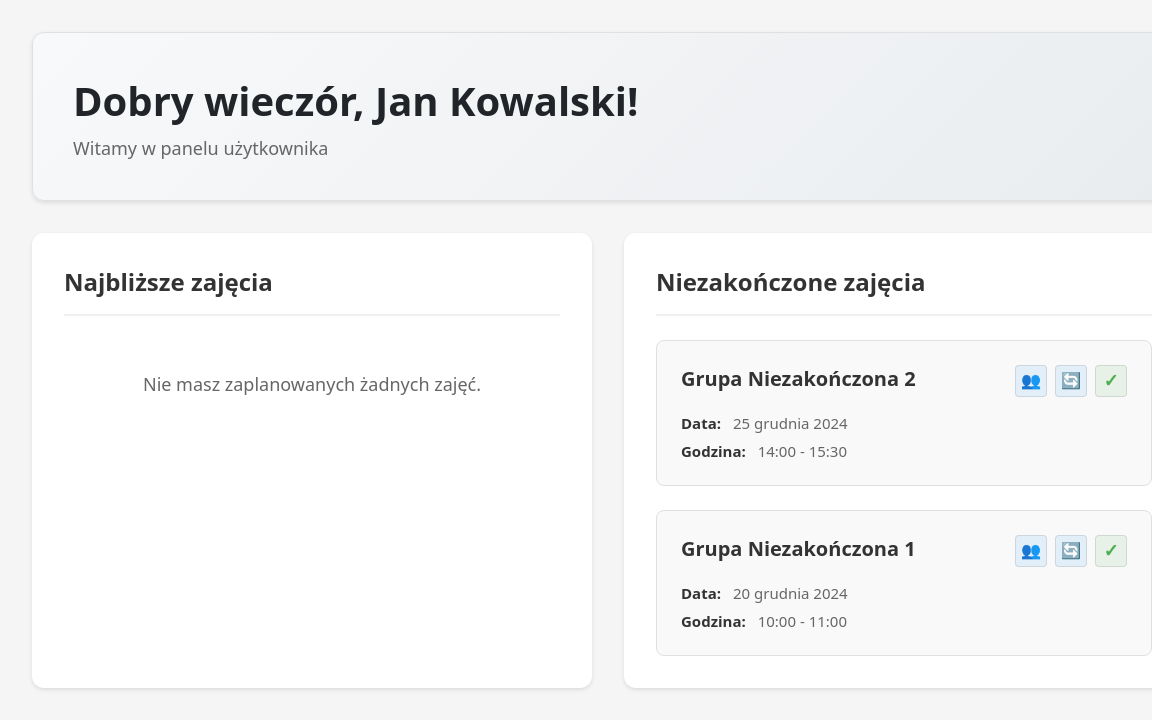
Test: DashboardPage › Instructor unfinished classes section › should open substitution modal when substitution button is clicked
Click the button titled "Dodaj zastępstwo" next to "Grupa Niezakończona 2": (1071, 381) [1055,365,1087,397]
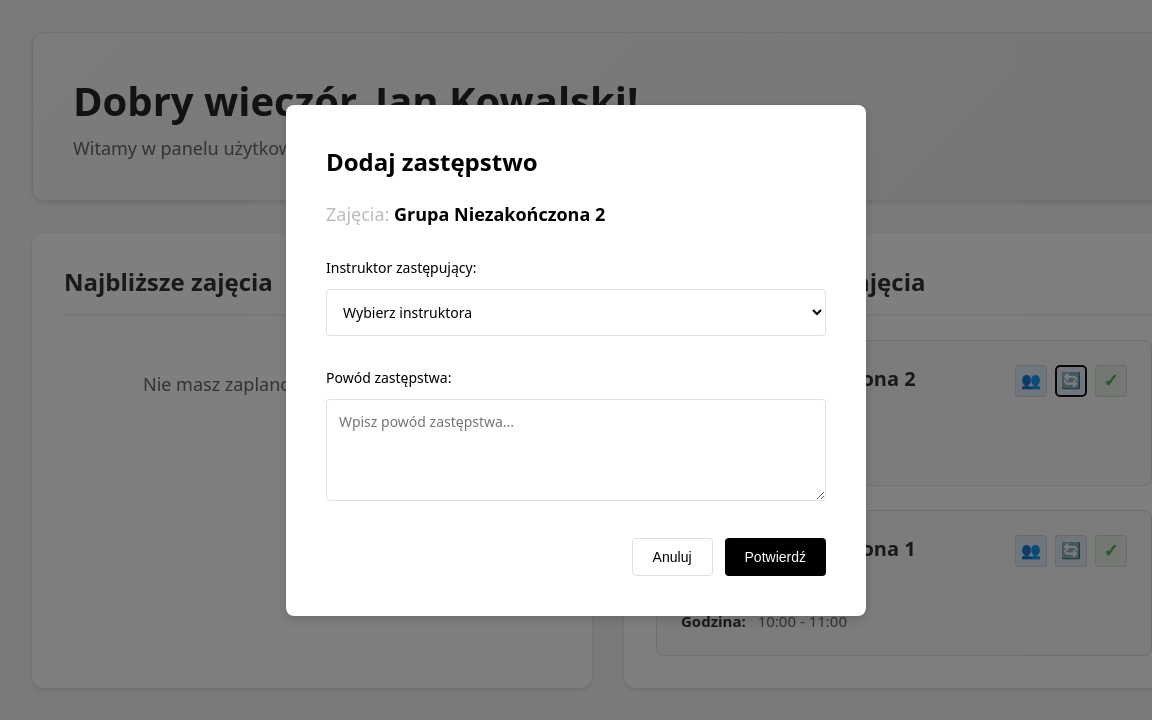
Now the heading "Dodaj zastępstwo" is shown, box [326,144,538,178]
